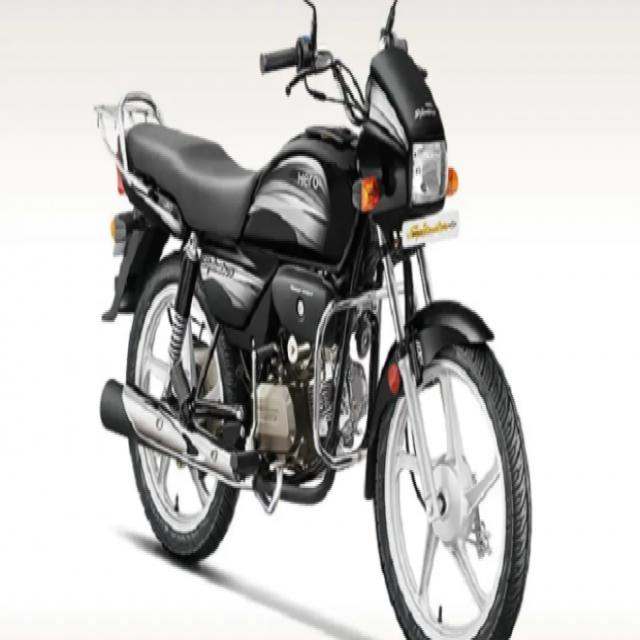MOTORCYCLE: (99, 1, 531, 634)
